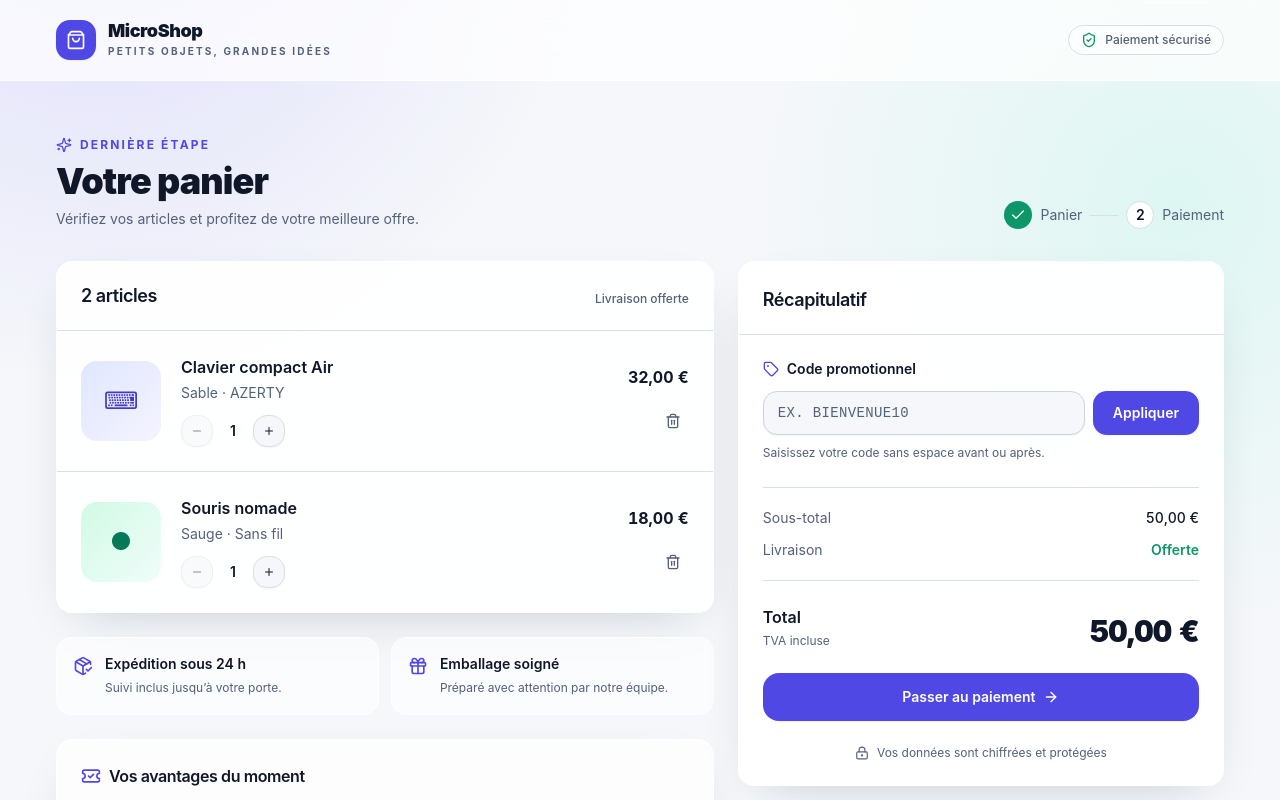
gestion des codes promotionnels au panier › remplace automatiquement le premier code valide et l'annonce clairement
Type "BIENVENUE10" into the field labelled "Code promotionnel". click: (924, 413)
box: [763, 391, 1085, 435]
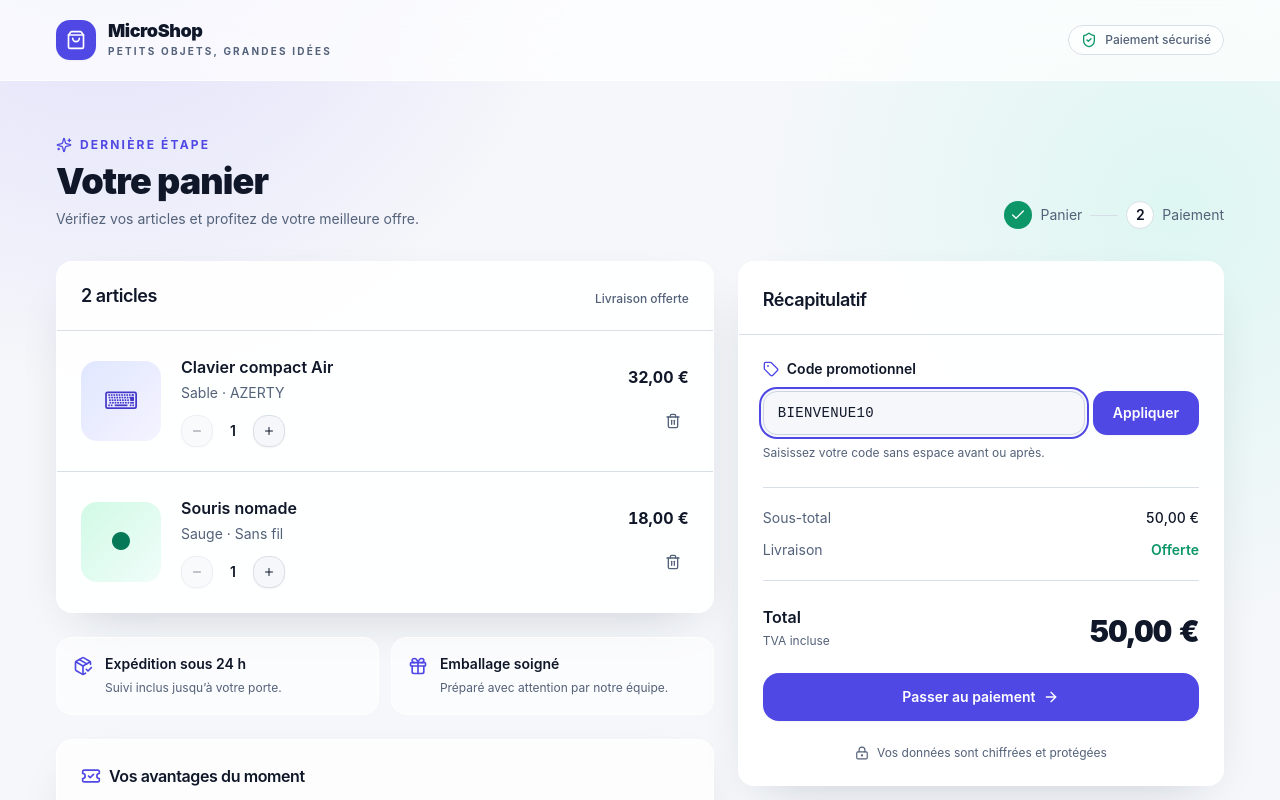
Click the button "Appliquer". click: (1146, 413)
box: [1093, 391, 1199, 435]
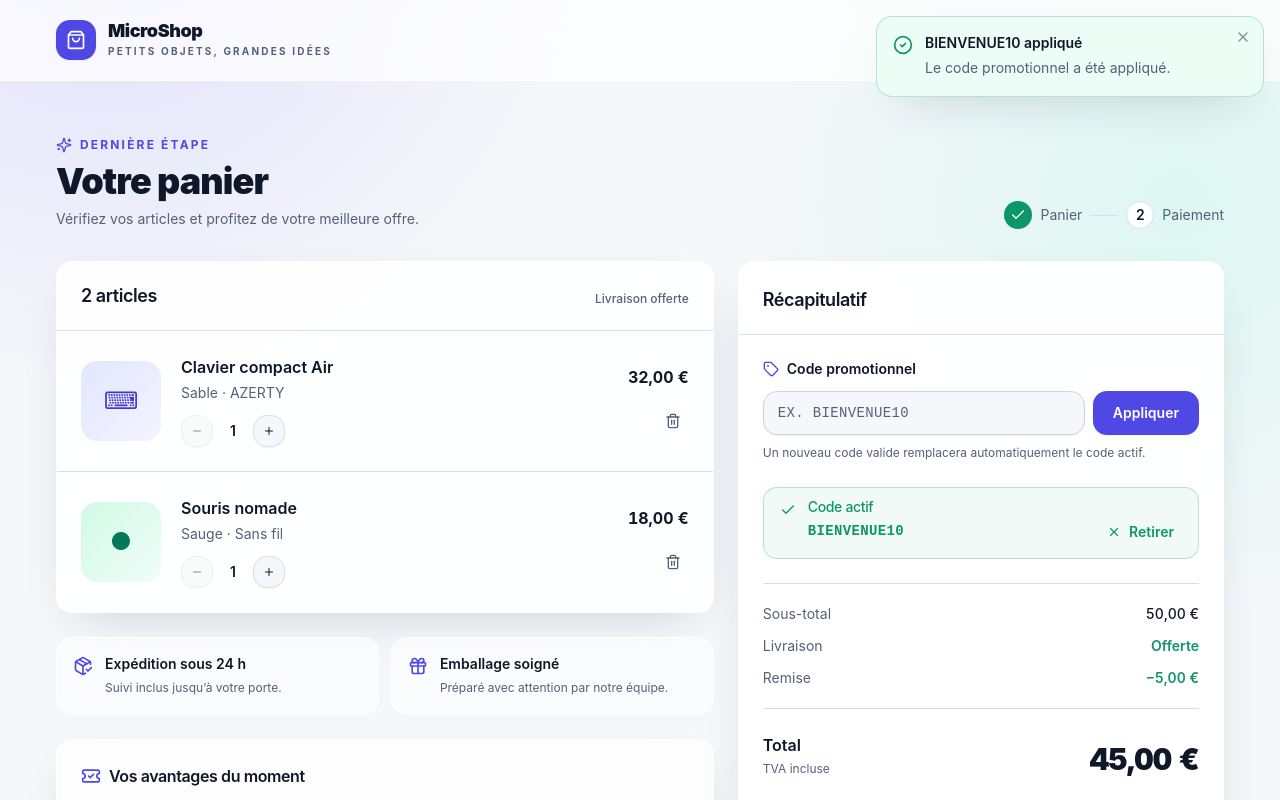
Result: the text "BIENVENUE10 appliqué" is shown at [925, 34, 1082, 51]
Type "PROMO05" into the field labelled "Code promotionnel". click: (924, 413)
box: [763, 391, 1085, 435]
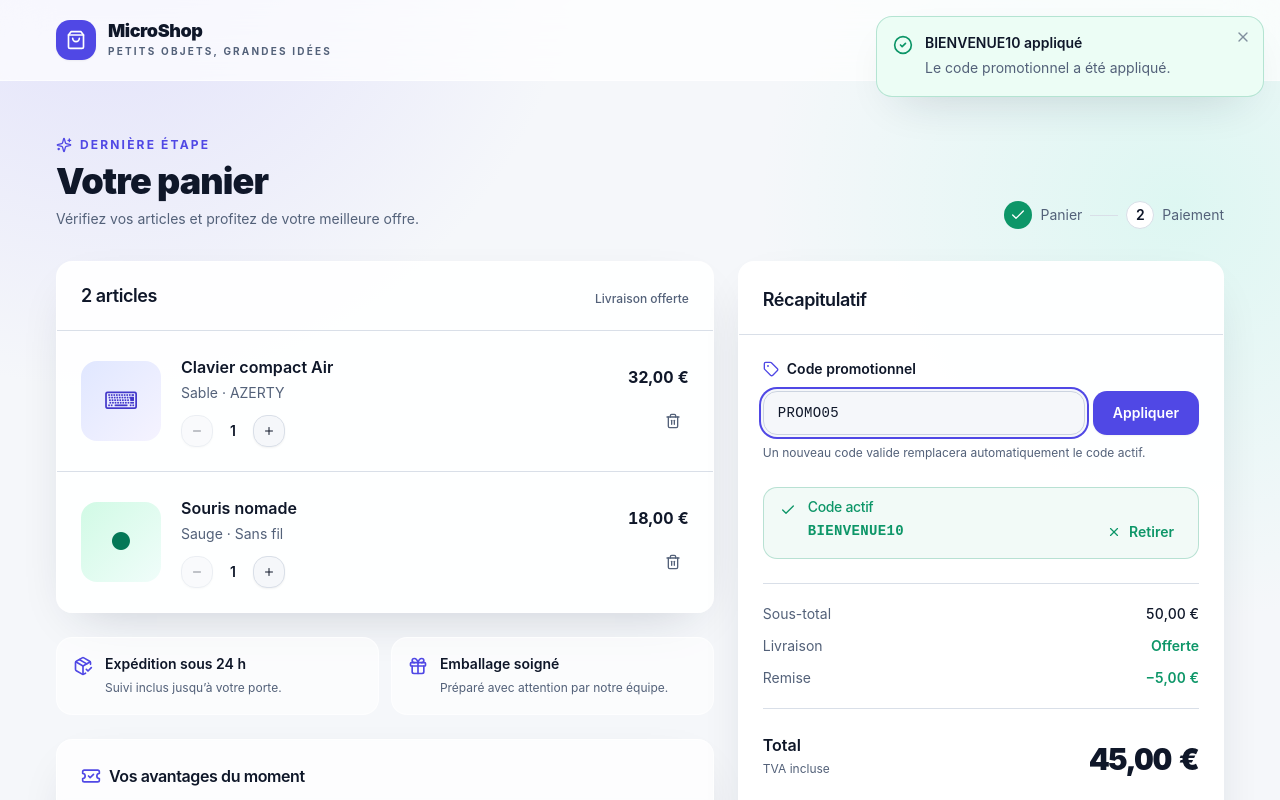
Click the button "Appliquer". click: (1146, 413)
box: [1093, 391, 1199, 435]
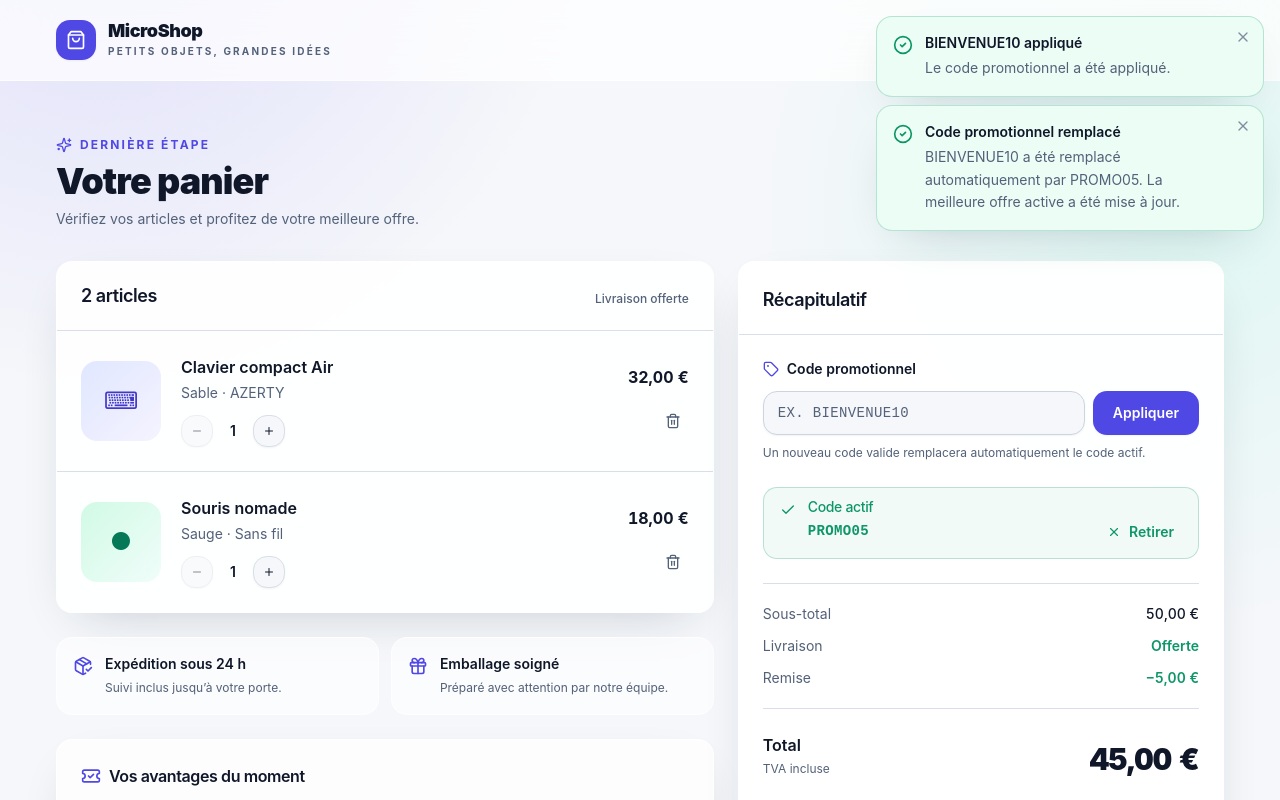
Result: the text "PROMO05" is shown at [808, 520, 869, 543]
Result: the text "Code promotionnel remplacé" is shown at [925, 123, 1121, 140]
Result: the text "BIENVENUE10 a été remplacé automatiquement par PROMO05" is shown at [925, 148, 1180, 210]
